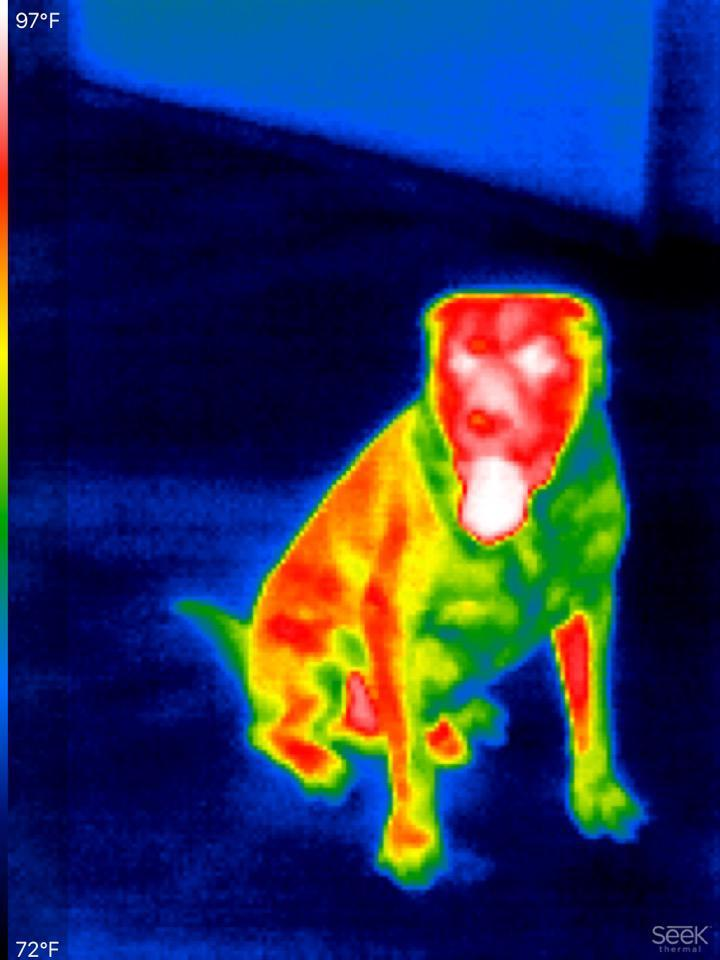dog: (178, 272, 661, 897)
